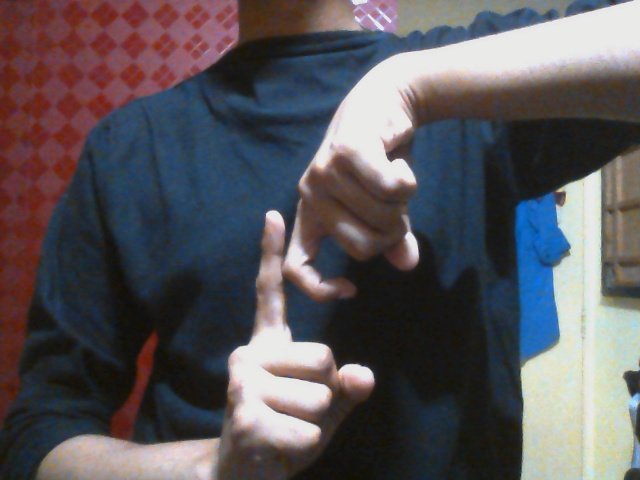K: (222, 155, 419, 473)
